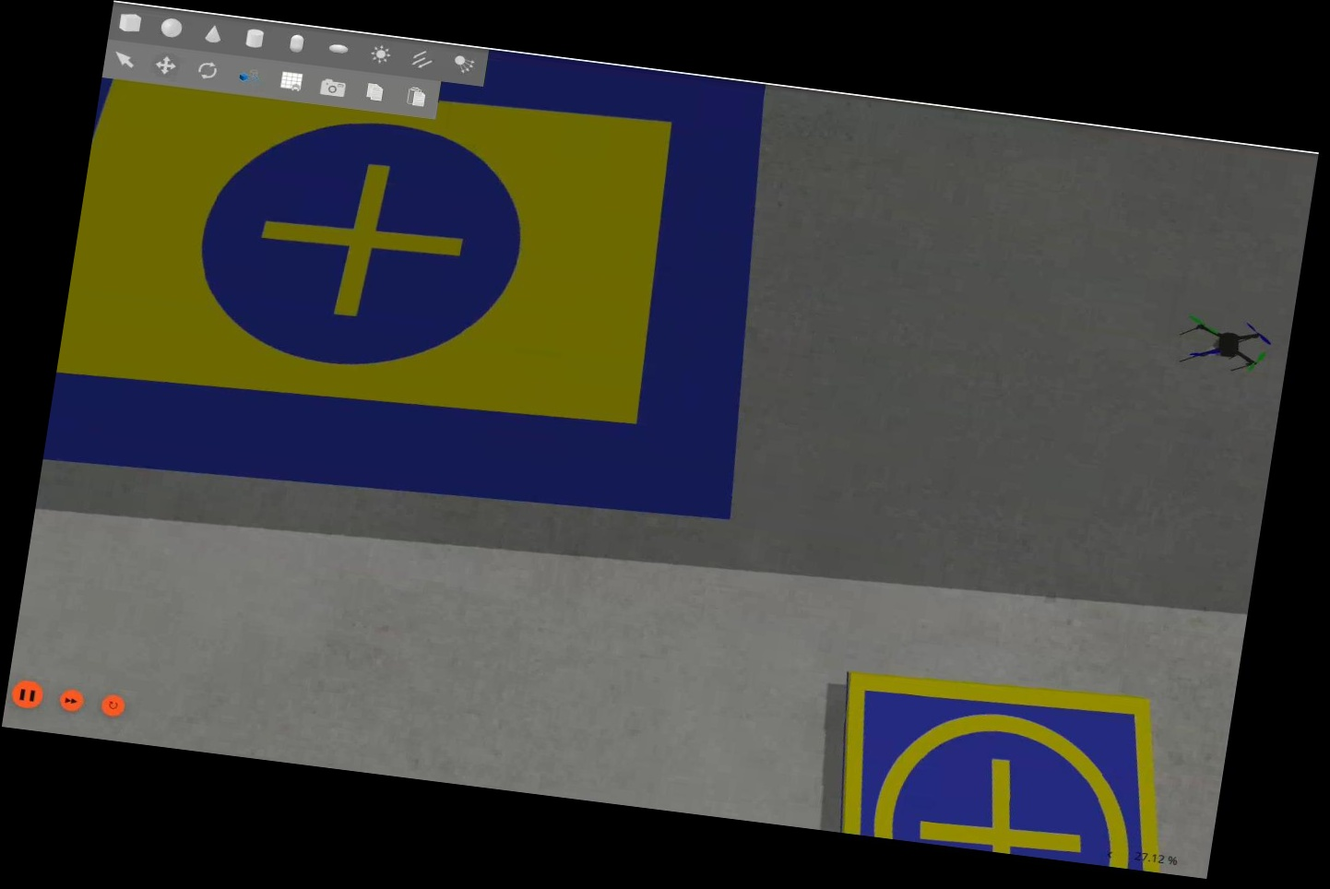large_base: (42, 0, 799, 545)
small_base: (823, 658, 1183, 871)
